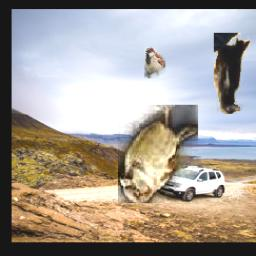Crow: (214, 34, 250, 115)
Sparrow: (118, 105, 198, 203), (144, 47, 165, 78)
